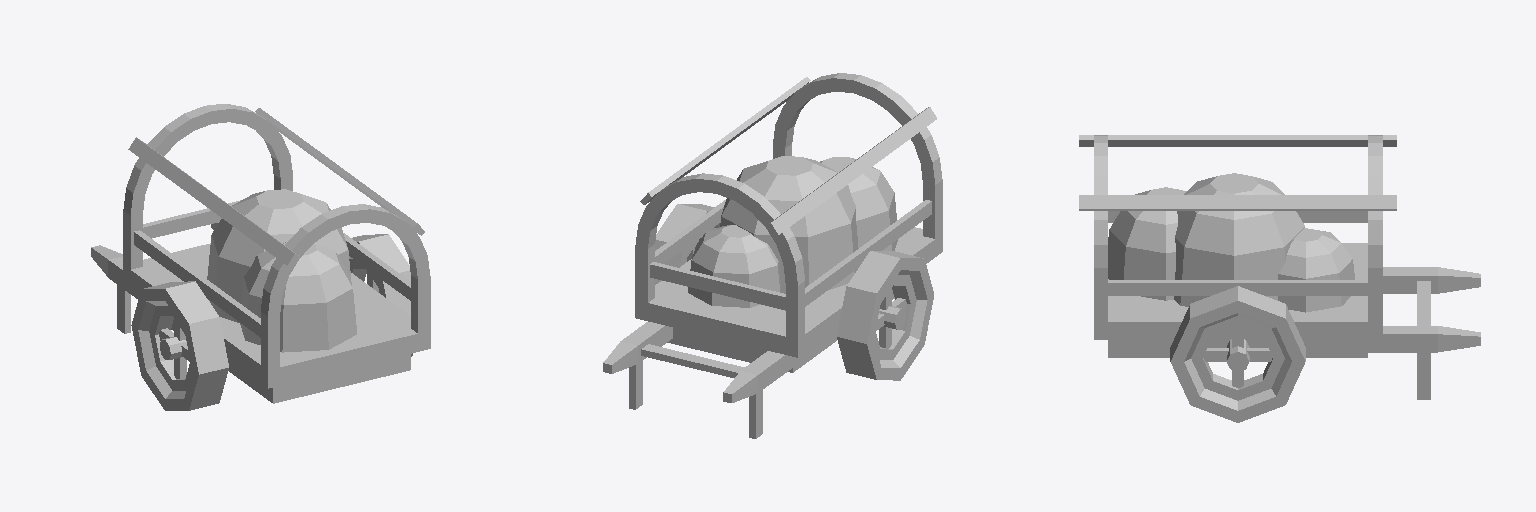
Rendered from cart-high.obj.
3 renders of one model, left to right at view 1: azimuth 30°, elevation 25°; view 2: azimuth 150°, elevation 25°; view 3: azimuth 270°, elevation 25°, orthographic.
Visible parts, largest first — view 1: cart-high, Group; view 2: cart-high, Group; view 3: cart-high, Group.
Part boxes in pixels (bbox=[...]): cart-high: bbox=[91, 104, 430, 403]; Group: bbox=[131, 234, 412, 410]; cart-high: bbox=[603, 73, 942, 438]; Group: bbox=[655, 204, 933, 380]; cart-high: bbox=[1079, 135, 1480, 399]; Group: bbox=[1170, 286, 1305, 422].
Bounding box in the file's own units: 0.893 × 0.8605 × 1.39.